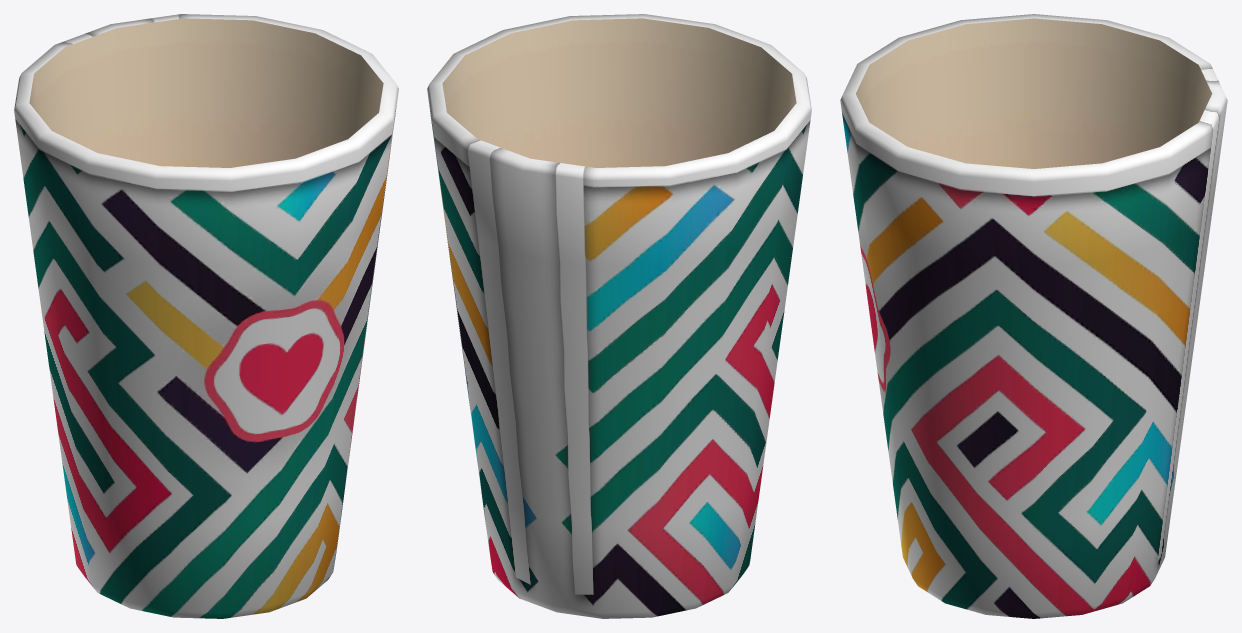
File: Drink (12).fbx
3 views of the same model, side by side, from view 1: azimuth 30°, elevation 25°; view 2: azimuth 150°, elevation 25°; view 3: azimuth 270°, elevation 25° (orthographic).
Parts seen in each view (by area): view 1: Drink__12_; view 2: Drink__12_; view 3: Drink__12_.
Part boxes in pixels (box(x1,y1,x2,y2)): Drink__12_: box(14, 14, 398, 618); Drink__12_: box(427, 14, 811, 618); Drink__12_: box(840, 14, 1227, 618).
Bounding box in the file's own units: 62.44 × 83.96 × 62.44.
